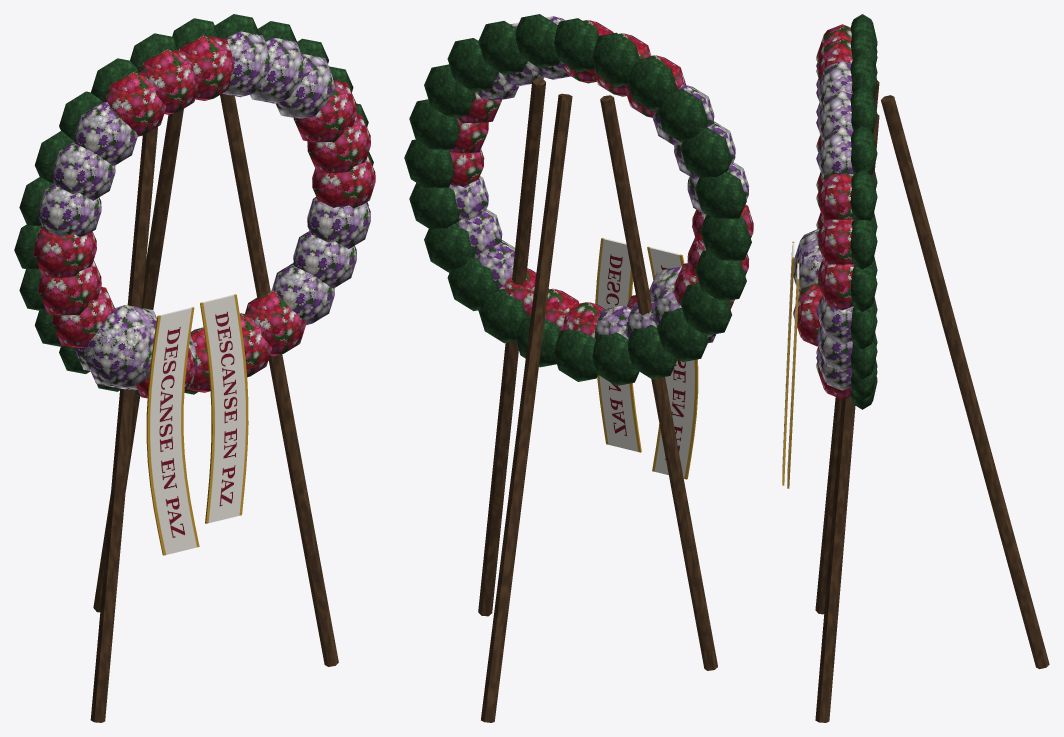
Rendered from corona_banda.obj.
The picture shows the model from 3 angles, left to right: view 1: azimuth 30°, elevation 25°; view 2: azimuth 150°, elevation 25°; view 3: azimuth 270°, elevation 25°; orthographic projection. The views are drawn at different scales.
Visible parts, largest first — view 1: Liston, Liston.001, Cylinder.001, Cylinder, Flores.048, Cylinder.002, Flores.019, Flores.021, Flores.017, Flores.023, Flores.015, Flores.025 (+25 smaller); view 2: Cylinder.002, Cylinder, Cylinder.001, Liston.001, Liston, Flores.016, Flores.018, Flores.020, Flores.014, Flores.022, Flores.024, Flores.012 (+37 smaller); view 3: Cylinder.002, Cylinder.001, Cylinder, Flores.003, Flores.005, Flores.007, Flores.001, Flores.009, Flores.049, Flores.048, Flores.047, Flores.004 (+16 smaller).
Boxes of the visible parts, <box> form: Liston: <box>146,307,199,555</box>; Liston.001: <box>200,294,248,523</box>; Cylinder.001: <box>220,94,338,666</box>; Cylinder: <box>90,127,157,722</box>; Flores.048: <box>84,305,156,389</box>; Cylinder.002: <box>93,109,183,612</box>; Flores.019: <box>74,102,137,165</box>; Flores.021: <box>52,141,115,200</box>; Flores.017: <box>104,72,166,136</box>; Flores.023: <box>38,183,101,236</box>; Flores.015: <box>140,49,198,114</box>; Flores.025: <box>33,226,96,277</box>; Cylinder.002: <box>481,93,572,722</box>; Cylinder: <box>600,95,717,670</box>; Cylinder.001: <box>478,78,545,616</box>; Liston.001: <box>595,238,641,452</box>; Liston: <box>647,246,698,479</box>; Flores.016: <box>627,57,677,111</box>; Flores.018: <box>657,89,708,142</box>; Flores.020: <box>680,127,731,177</box>; Flores.014: <box>592,32,639,86</box>; Flores.022: <box>695,172,746,218</box>; Flores.024: <box>700,214,751,260</box>; Flores.012: <box>554,18,599,71</box>; Cylinder.002: <box>881,95,1049,669</box>; Cylinder.001: <box>815,114,879,722</box>; Cylinder: <box>815,80,879,614</box>; Flores.003: <box>816,217,853,264</box>; Flores.005: <box>816,174,853,219</box>; Flores.007: <box>816,127,853,177</box>; Flores.001: <box>816,258,854,310</box>; Flores.009: <box>816,90,853,140</box>; Flores.049: <box>793,282,821,346</box>; Flores.048: <box>793,228,822,293</box>; Flores.047: <box>816,295,853,344</box>; Flores.004: <box>850,170,877,220</box>.
Bounding box in the file's own units: 0.8 × 1.4 × 0.5336.
Materials: 5 (5 with a texture image).
